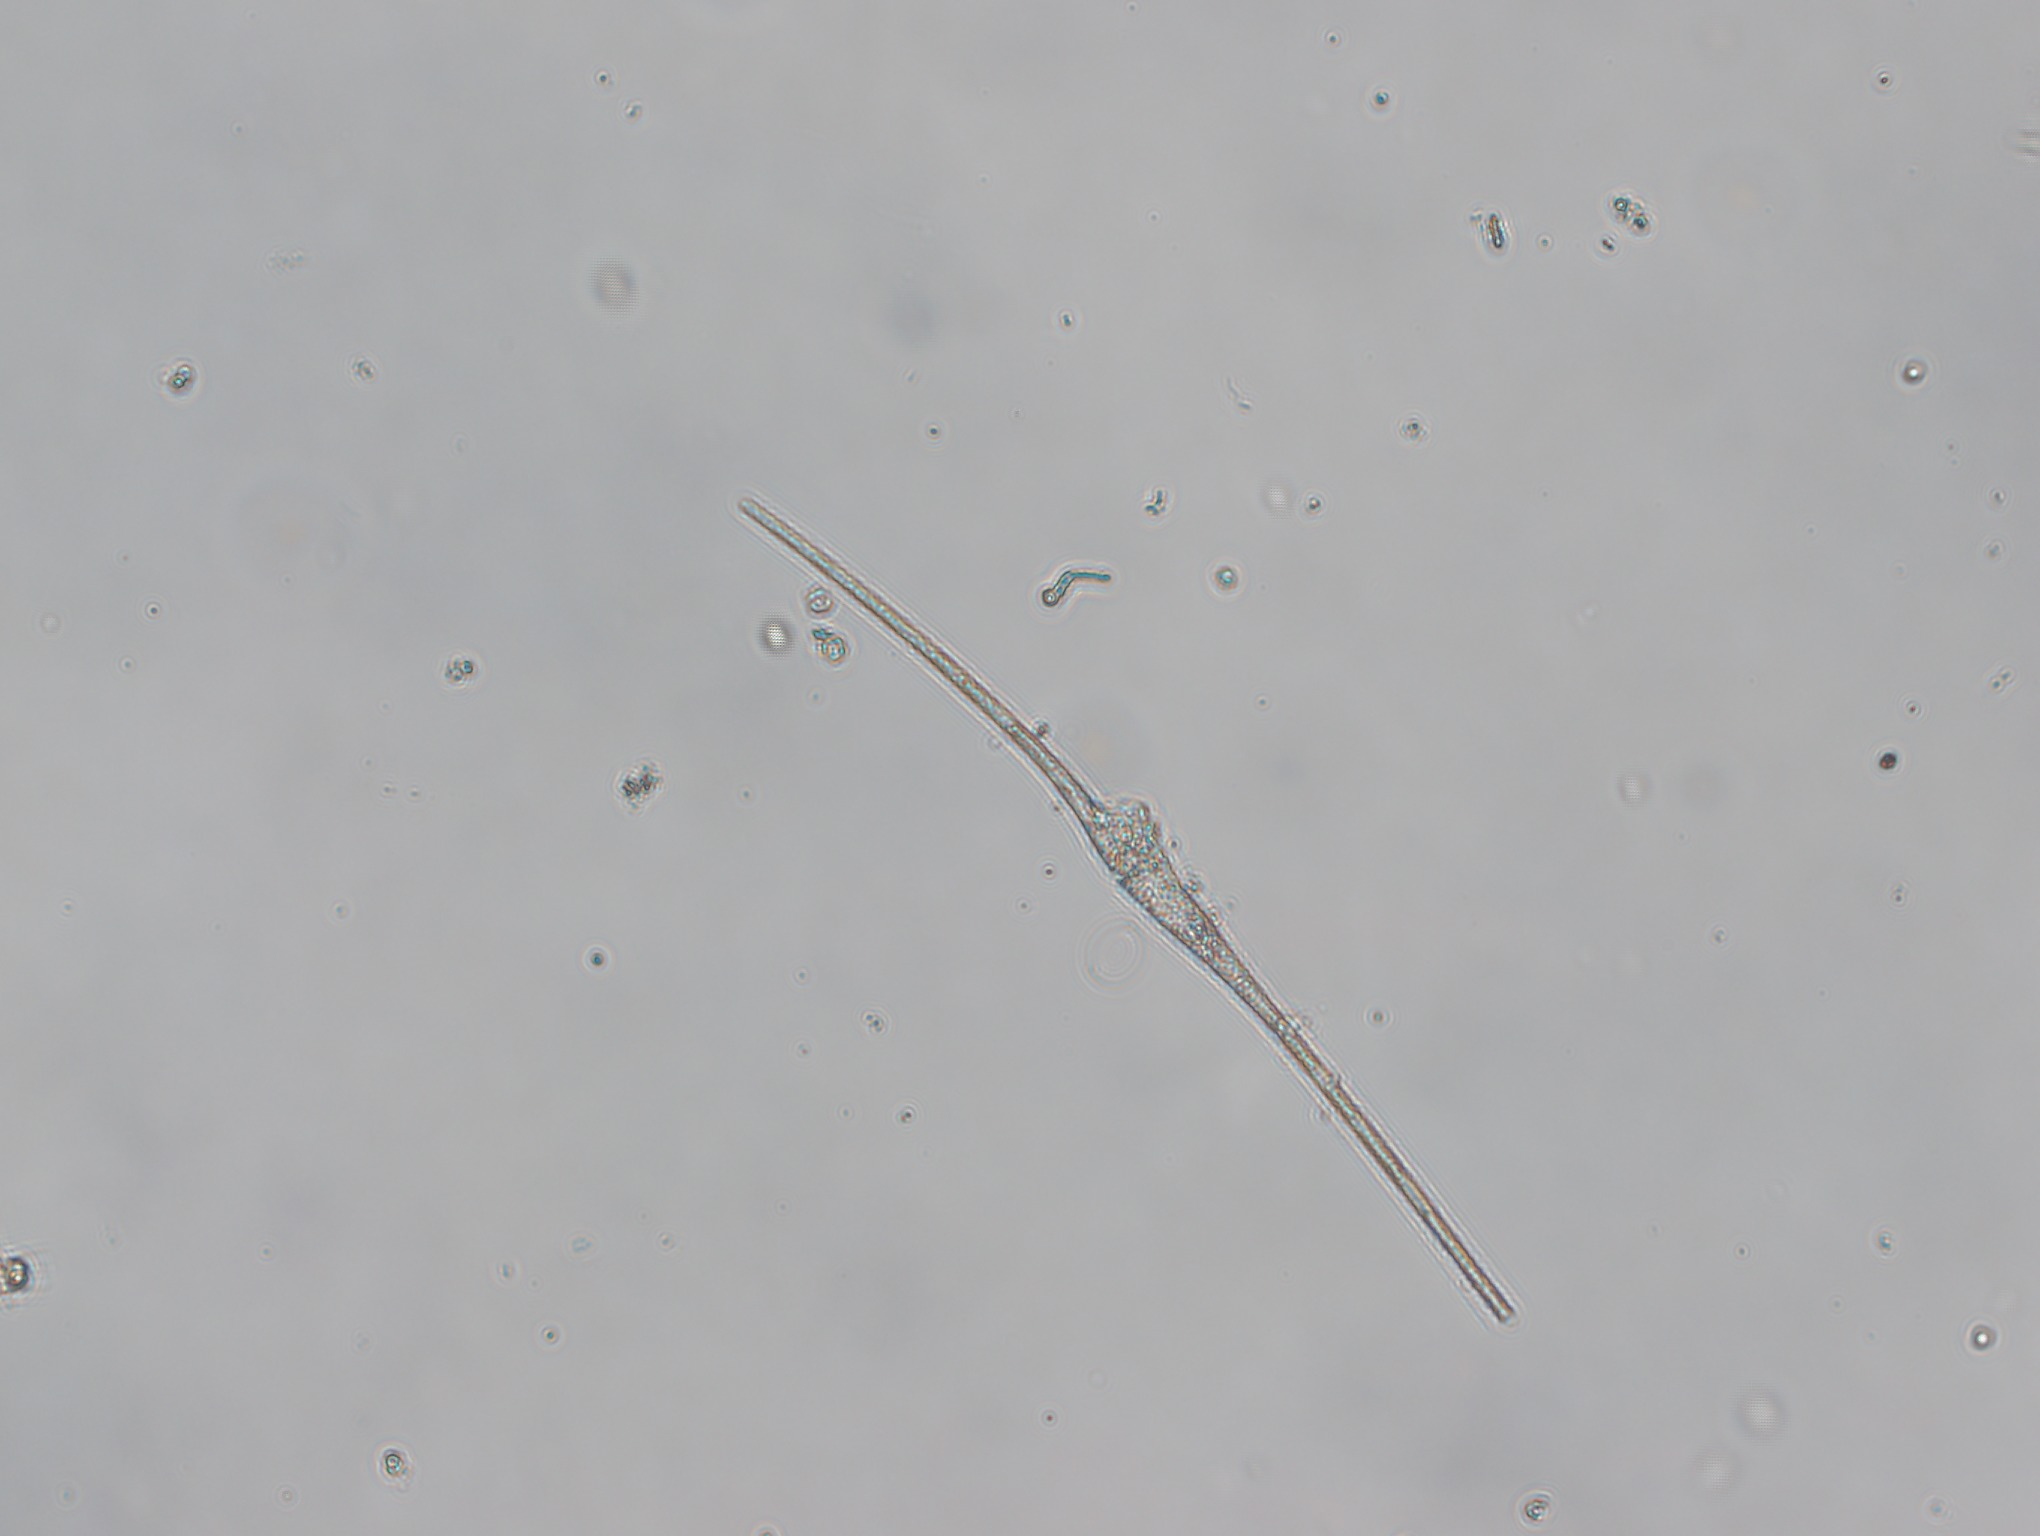ceratium fusus: (735, 495, 1521, 1329)
